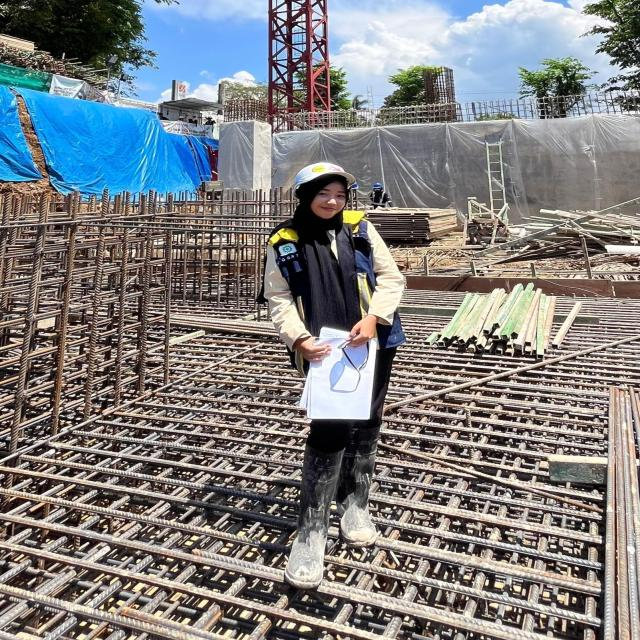safetyhelmet: (287, 156, 356, 228)
